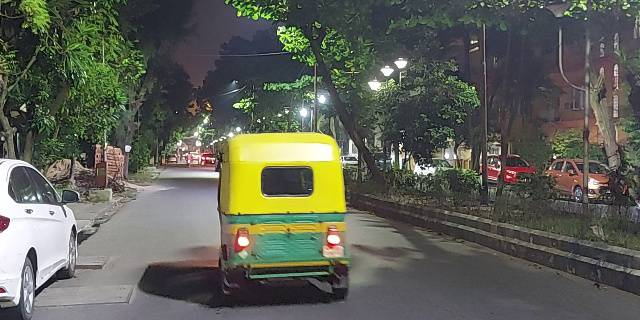Autorickshaw: (215, 132, 348, 300)
